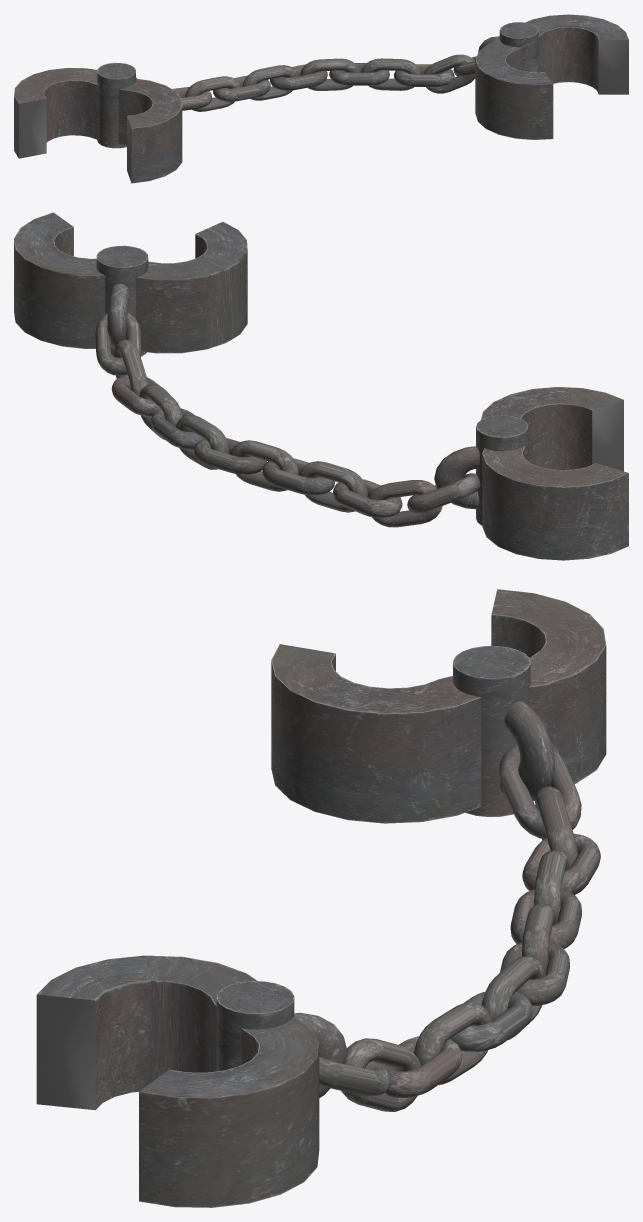
File: cuffObj.glb
3 renders of one model, top to bottom at view 1: azimuth 30°, elevation 25°; view 2: azimuth 150°, elevation 25°; view 3: azimuth 270°, elevation 25°, orthographic. The views are drawn at different scales.
Visible parts, largest first — view 1: Cuffs.001; view 2: Cuffs.001; view 3: Cuffs.001.
Part boxes in pixels (x1=…): Cuffs.001: x1=14, y1=14, x2=628, y2=183; Cuffs.001: x1=14, y1=212, x2=628, y2=560; Cuffs.001: x1=36, y1=589, x2=606, y2=1207.
Bounding box in the file's own units: 3.63 × 0.5117 × 1.7.
1 material, 1 textured.
